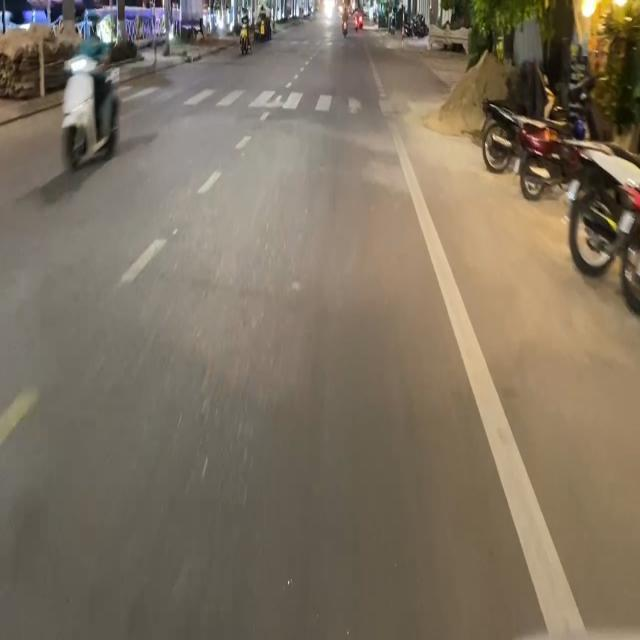walk-crossing: (116, 82, 396, 118)
